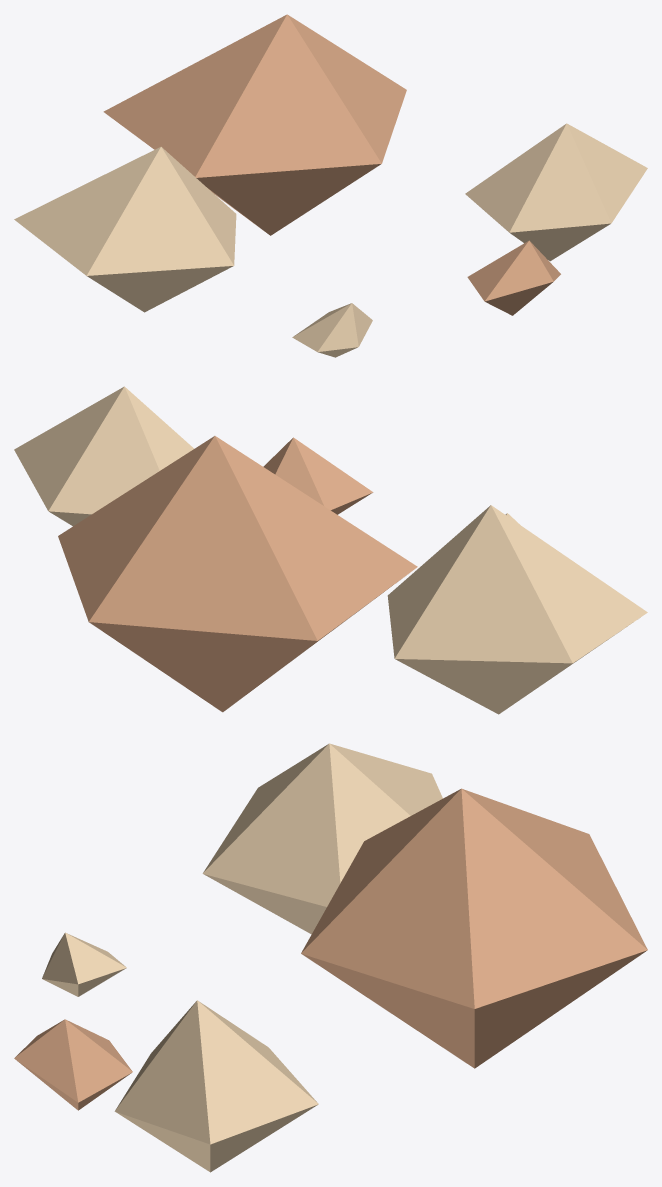
3 views of the same model, one above another, from view 1: azimuth 30°, elevation 25°; view 2: azimuth 150°, elevation 25°; view 3: azimuth 270°, elevation 25° (orthographic). The views are drawn at different scales.
Bounding box in the file's own units: 6.19 × 2.4 × 4.8.
